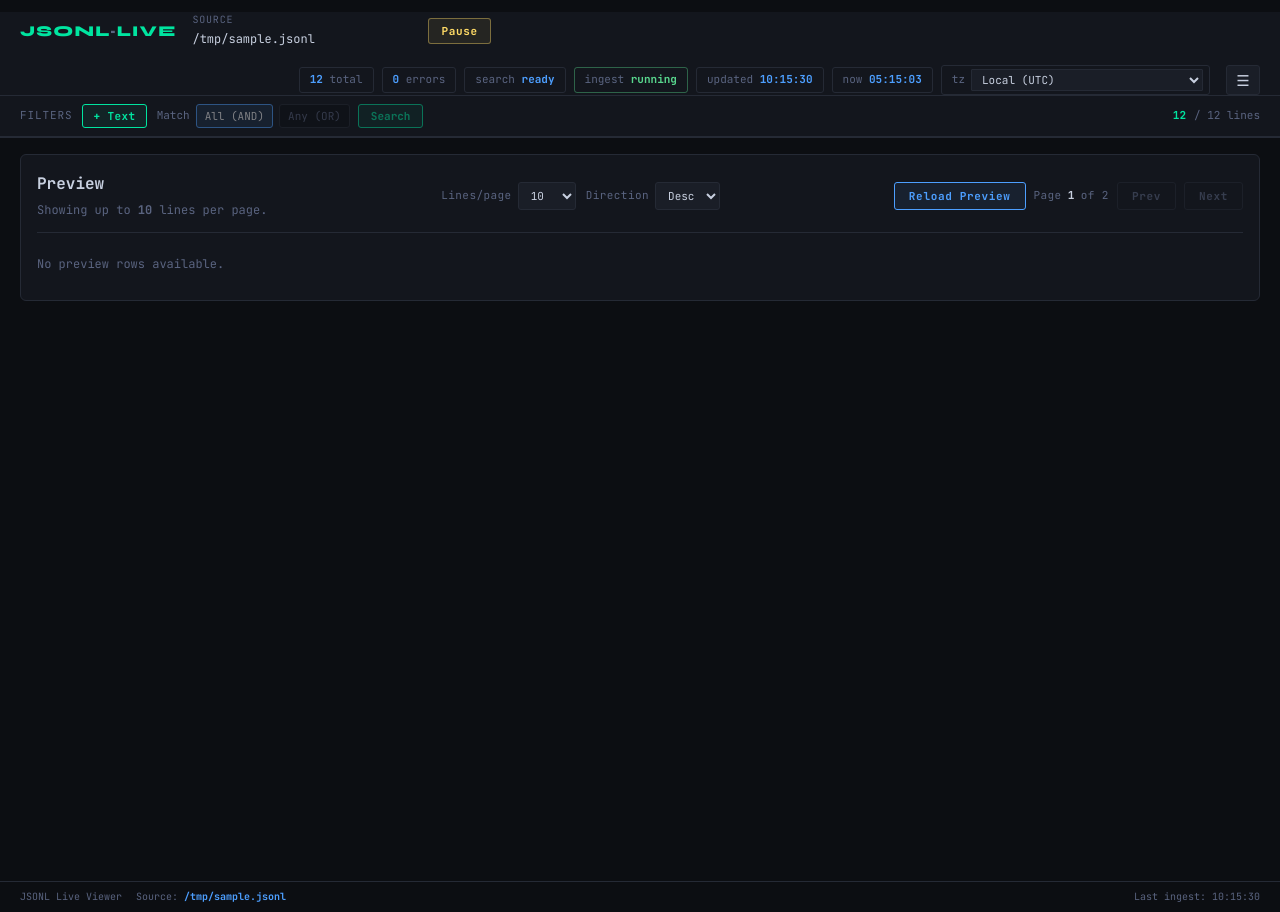
Test: App admin confirmations and lock › shows ingest size row in MB mode with mismatch colors
The width and height of the screenshot is (1280, 912).
Click the button named "Open admin menu" at x=1243, y=80, box [1226,65,1260,95]
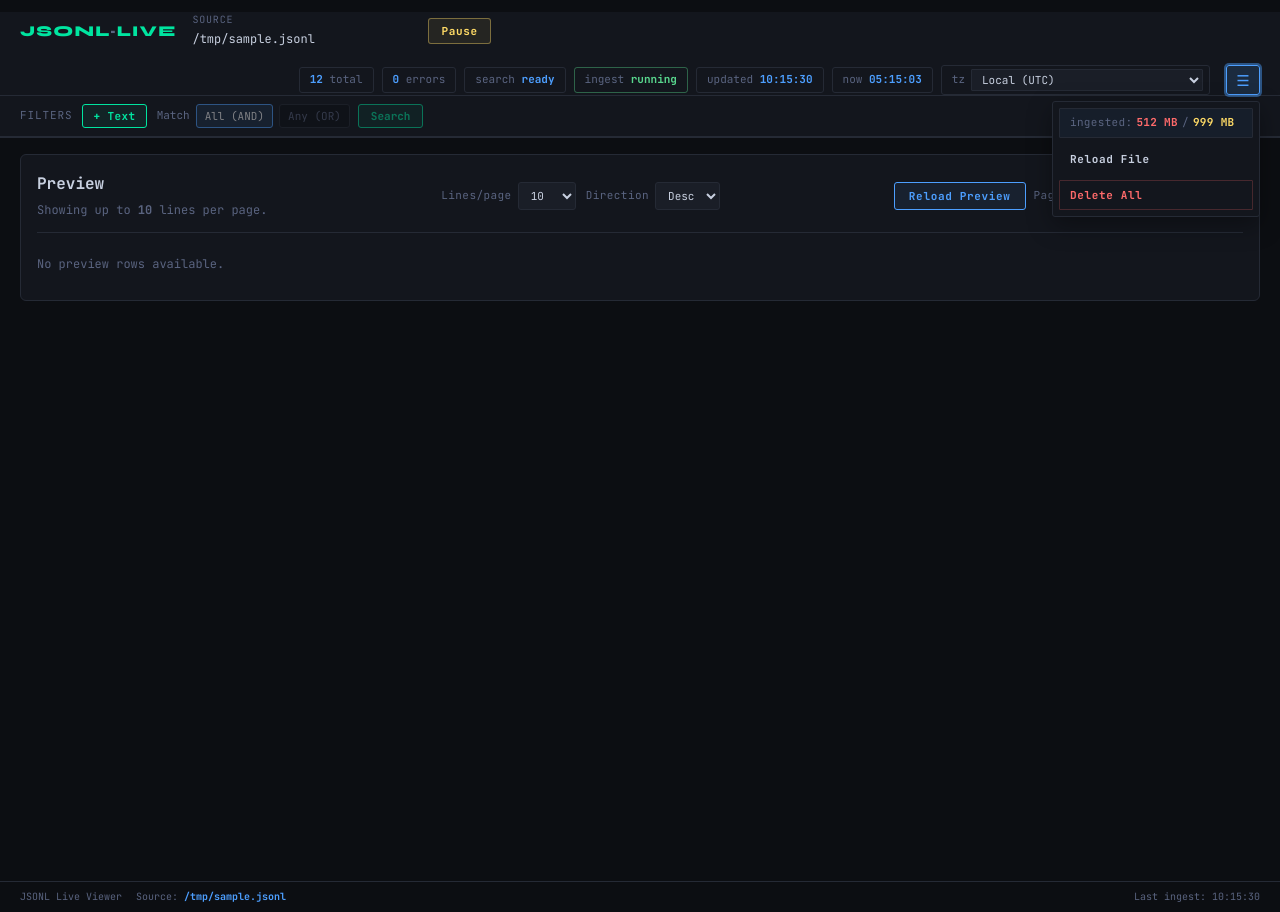
Now the text "ingested:" is shown, box [1070,114,1132,132]
Now the number of menu items is 2, box [1059,144,1253,174]; [1059,180,1253,210]
